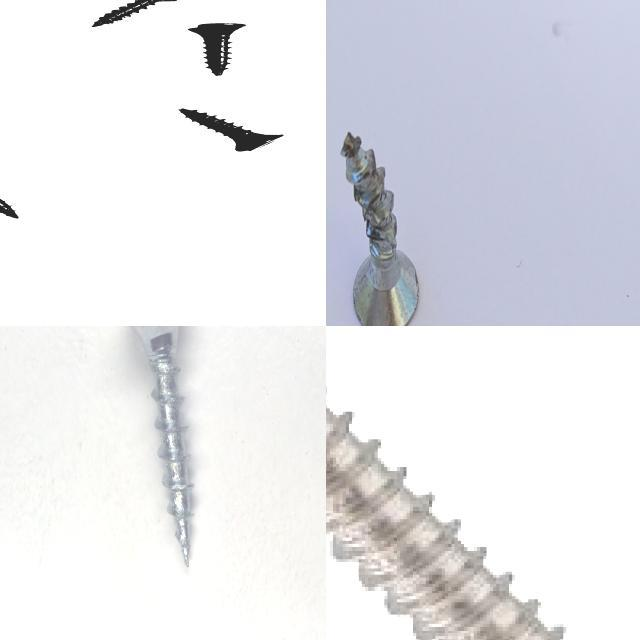Screw: (326, 387, 567, 640), (340, 131, 418, 326), (131, 326, 192, 564), (182, 109, 285, 152), (190, 23, 247, 75), (94, 0, 179, 27)
